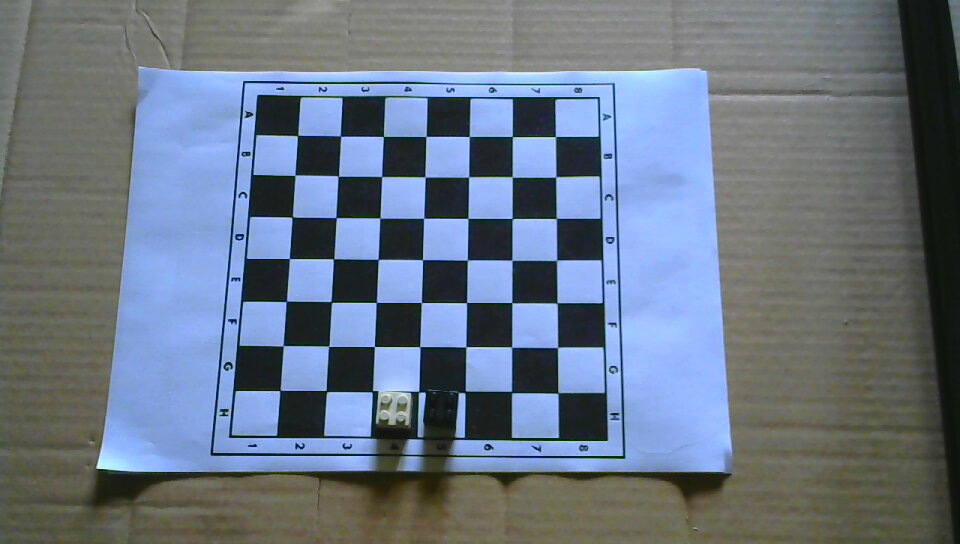bp: (422, 389, 460, 428)
wp: (374, 390, 413, 430)
